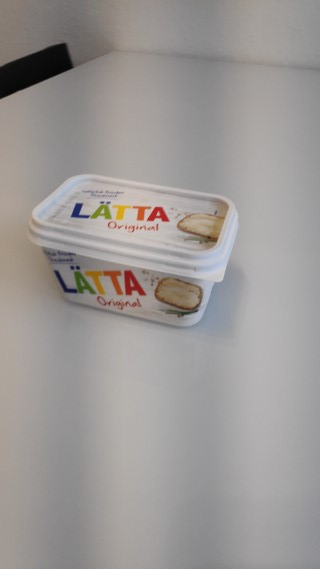laetta: (27, 173, 239, 328)
